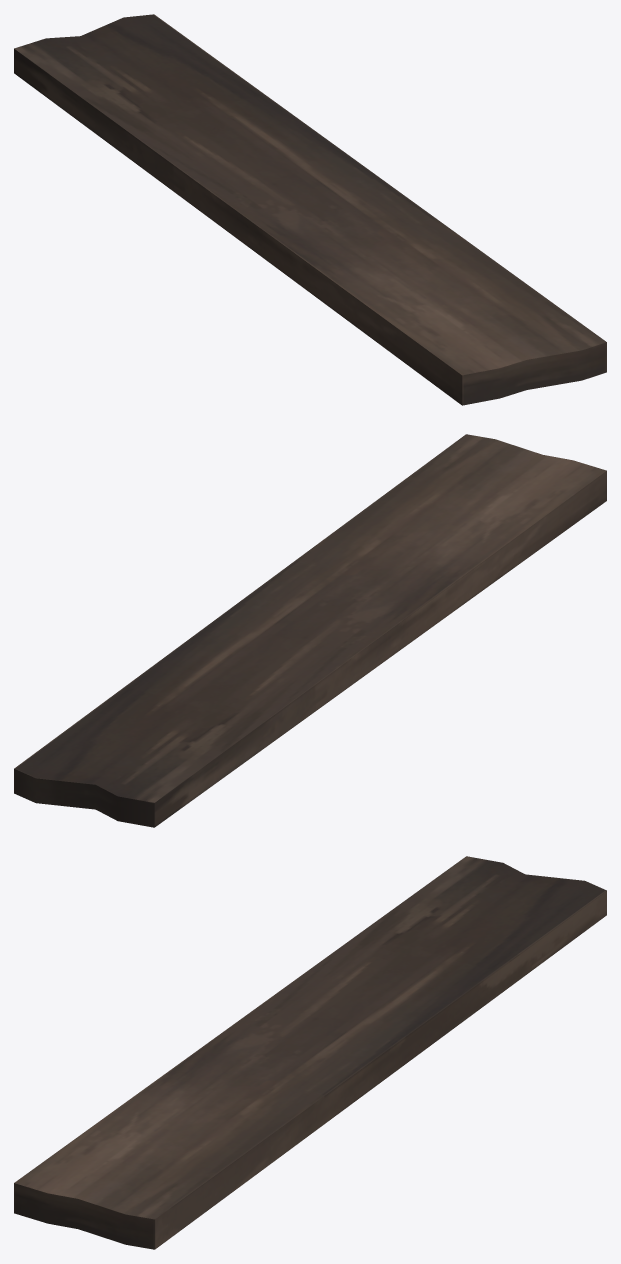
The model's file is SM_WoodenPlank_03.fbx.
3 views of the same model, one above another, from view 1: azimuth 30°, elevation 25°; view 2: azimuth 150°, elevation 25°; view 3: azimuth 330°, elevation 25° (orthographic).
Visible parts, largest first — view 1: SM_WoodenPlank_03_LOD0; view 2: SM_WoodenPlank_03_LOD0; view 3: SM_WoodenPlank_03_LOD0.
Part boxes in pixels (left/top/right/bottom): SM_WoodenPlank_03_LOD0: left=14, top=14, right=606, bottom=405; SM_WoodenPlank_03_LOD0: left=14, top=434, right=606, bottom=827; SM_WoodenPlank_03_LOD0: left=14, top=856, right=606, bottom=1249.
Size of the model in its own units: 64.44 by 359 by 13.04.
Materials: 1 (1 with a texture image).
